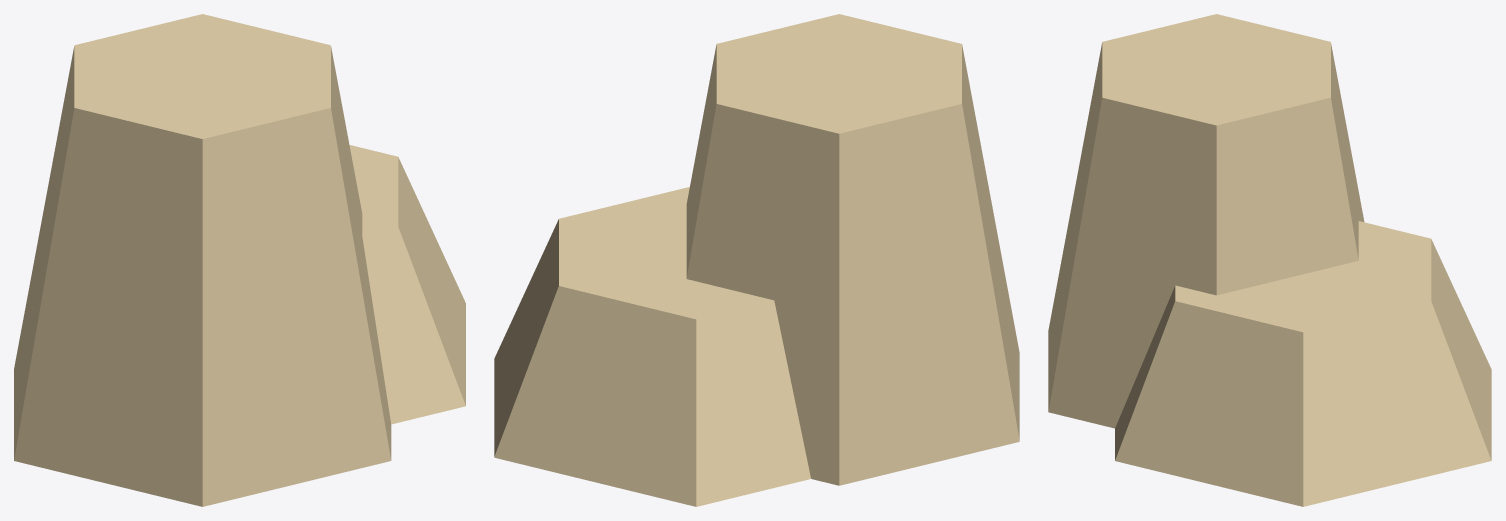
File: resourceStone.fbx
The picture shows the model from 3 angles, left to right: view 1: azimuth 30°, elevation 25°; view 2: azimuth 150°, elevation 25°; view 3: azimuth 270°, elevation 25°; orthographic projection. The views are drawn at different scales.
Visible parts, largest first — view 1: resourceStone; view 2: resourceStone; view 3: resourceStone.
Part boxes in pixels (x1,y1,x2,y2): resourceStone: (14, 14, 465, 506); resourceStone: (494, 14, 1019, 506); resourceStone: (1048, 14, 1491, 506).
Bounding box in the file's own units: 6.61 × 4.27 × 5.69.
